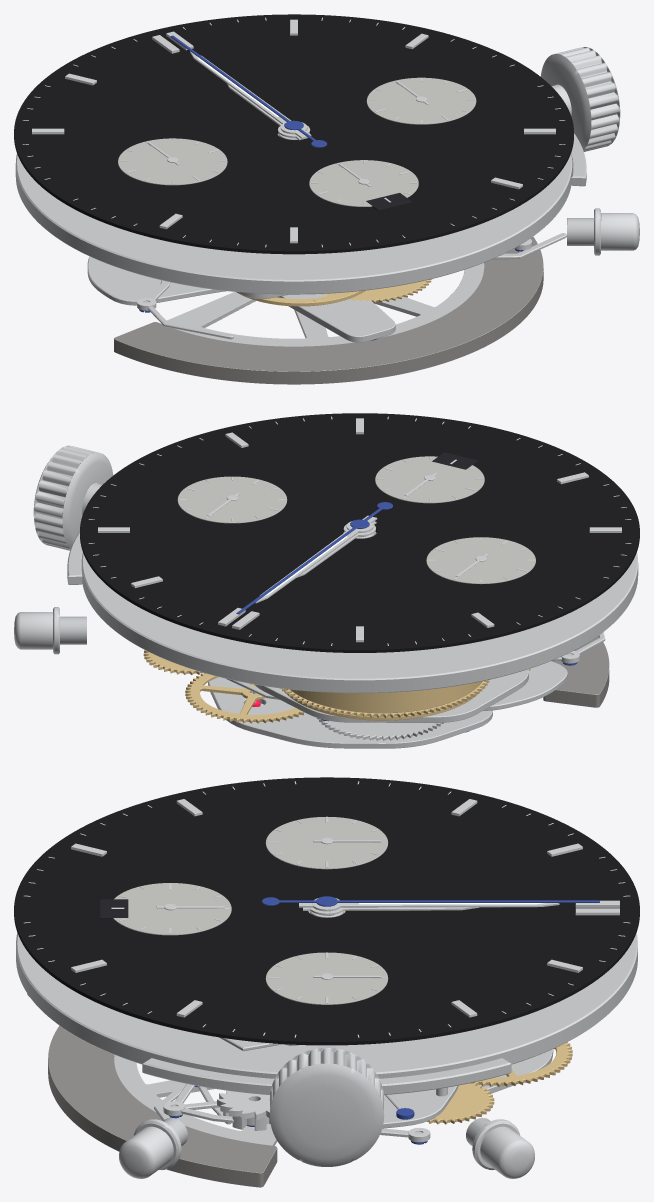
The model's file is movement.glb.
The picture shows the model from 3 angles, top to bottom: view 1: azimuth 30°, elevation 25°; view 2: azimuth 150°, elevation 25°; view 3: azimuth 270°, elevation 25°; orthographic projection. The views are drawn at different scales.
Visible parts, largest first — view 1: dial, rotor, main_plate, winding_stem, balance_cock, chrono_bridge, pushers, hour_hammer, fourth_wheel, minute_hand, balance, chrono_hand; view 2: dial, main_plate, auto_bridge, winding_stem, barrel, barrel_bridge, rotor, pushers, ratchet_drive, chrono_bridge, ratchet_wheel, minute_hand (+2 smaller); view 3: dial, main_plate, rotor, winding_stem, pushers, chrono_bridge, crown_inter, column_wheel, minute_hand, chrono_hand, ratchet_drive, clutch_fork (+2 smaller).
Part boxes in pixels (bbox=[...]): dial: bbox=[14, 14, 573, 254]; rotor: bbox=[114, 237, 543, 384]; main_plate: bbox=[15, 133, 586, 294]; winding_stem: bbox=[540, 47, 620, 151]; balance_cock: bbox=[277, 294, 395, 342]; chrono_bridge: bbox=[87, 257, 226, 305]; pushers: bbox=[567, 208, 639, 255]; hour_hammer: bbox=[137, 280, 233, 339]; fourth_wheel: bbox=[321, 279, 432, 303]; minute_hand: bbox=[190, 51, 311, 138]; balance: bbox=[236, 290, 365, 306]; chrono_hand: bbox=[170, 35, 327, 147]; dial: bbox=[80, 413, 639, 652]; main_plate: bbox=[67, 532, 638, 693]; auto_bridge: bbox=[208, 677, 492, 748]; winding_stem: bbox=[33, 445, 113, 550]; barrel: bbox=[280, 679, 489, 720]; barrel_bridge: bbox=[255, 669, 528, 722]; rotor: bbox=[543, 636, 609, 707]; pushers: bbox=[14, 607, 86, 654]; ratchet_drive: bbox=[185, 673, 304, 723]; chrono_bridge: bbox=[483, 661, 567, 710]; ratchet_wheel: bbox=[317, 718, 443, 740]; minute_hand: bbox=[255, 515, 377, 603]; dial: bbox=[14, 777, 639, 1045]; main_plate: bbox=[16, 911, 637, 1094]; rotor: bbox=[48, 1025, 277, 1187]; winding_stem: bbox=[269, 1045, 384, 1166]; pushers: bbox=[119, 1117, 534, 1178]; chrono_bridge: bbox=[382, 1085, 458, 1128]; crown_inter: bbox=[427, 1083, 494, 1124]; column_wheel: bbox=[217, 1090, 270, 1130]; minute_hand: bbox=[299, 898, 559, 911]; chrono_hand: bbox=[261, 896, 599, 906]; ratchet_drive: bbox=[470, 1042, 572, 1086]; clutch_fork: bbox=[163, 1084, 233, 1122].
Size of the model in its own units: 35.28 by 9.55 by 31.2.
